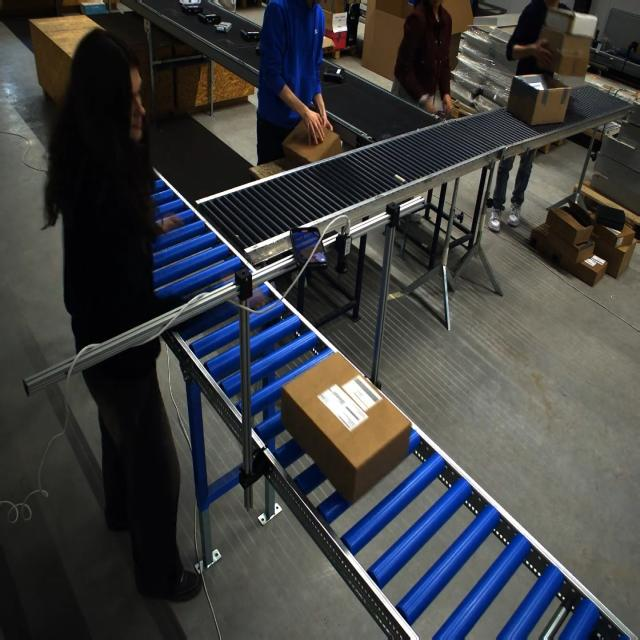box: (284, 354, 398, 498), (281, 115, 338, 169)
product: (323, 67, 343, 83), (198, 12, 221, 24), (180, 3, 201, 15), (240, 29, 259, 42), (214, 22, 232, 33)
